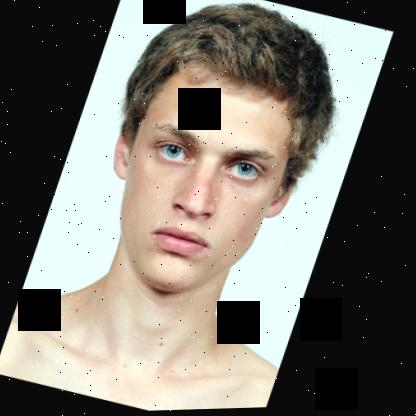Male: (72, 45, 330, 317)
